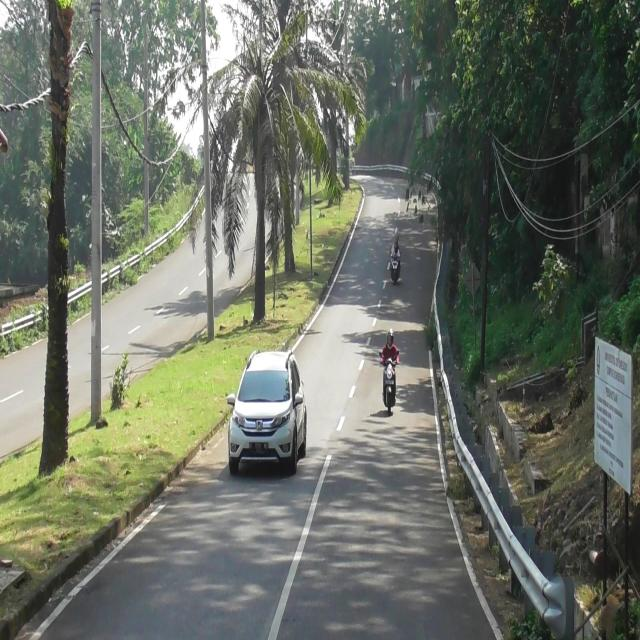motorcycle: (381, 358, 399, 420), (390, 257, 401, 285)
person: (380, 329, 399, 366), (392, 242, 401, 259), (392, 236, 399, 246)
rider_region: (380, 330, 399, 416), (390, 232, 402, 284)
